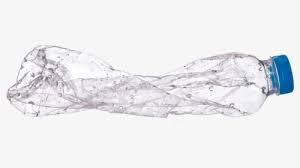plastic: (7, 45, 293, 120)
